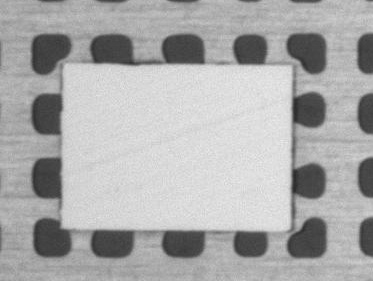DIE_CRACK: (64, 96, 284, 178)
